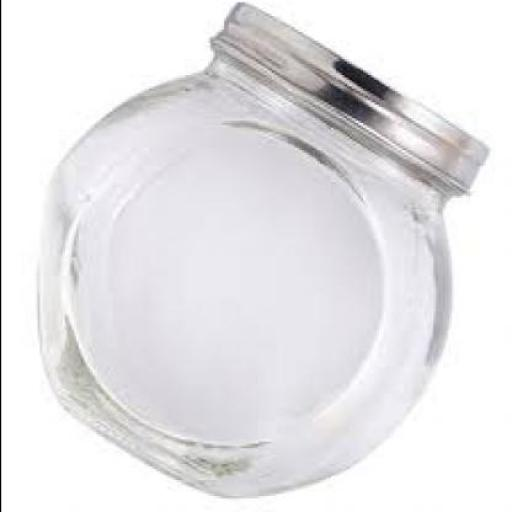glass: (38, 73, 448, 501)
metal: (208, 6, 492, 198)
